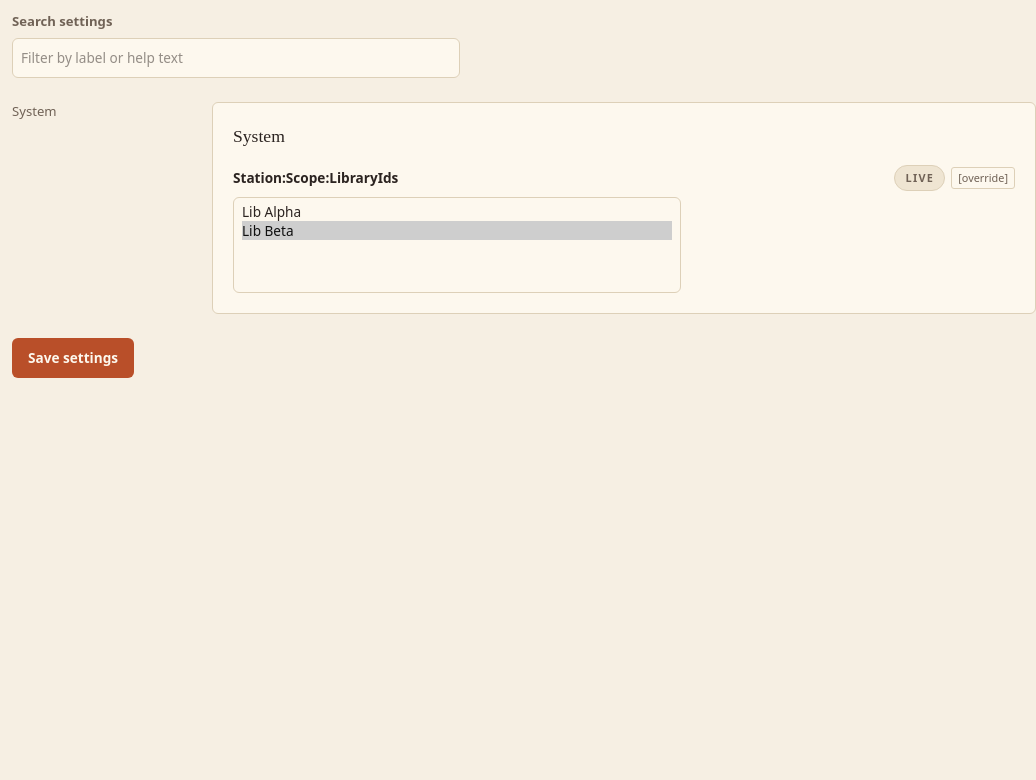
Test: Feature: Main rotation scope on the settings page › Scenario: submitting a scope change › toasts 'Settings saved.' on success (SPEC F28.9)
Select "Lib Beta" in the dropdown at (457, 245), box [233,197,681,293]
Click the button "Save settings" at (73, 358), box [12,338,134,378]
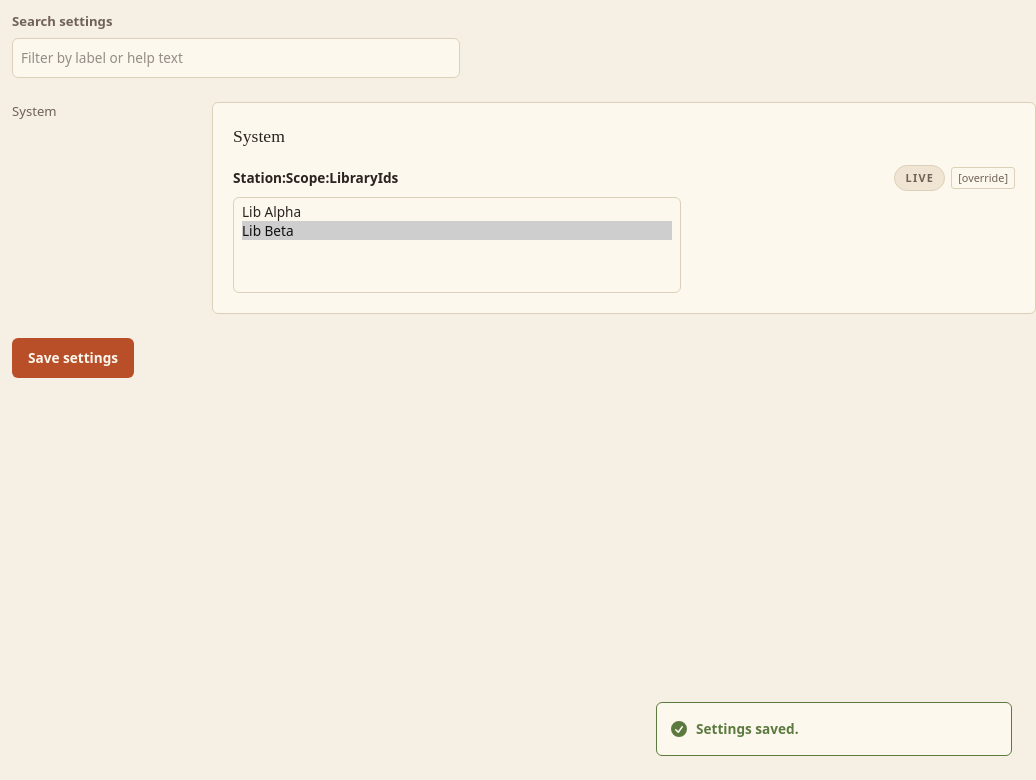
Expected: the text "Settings saved." is shown, [696,719,798,739]
